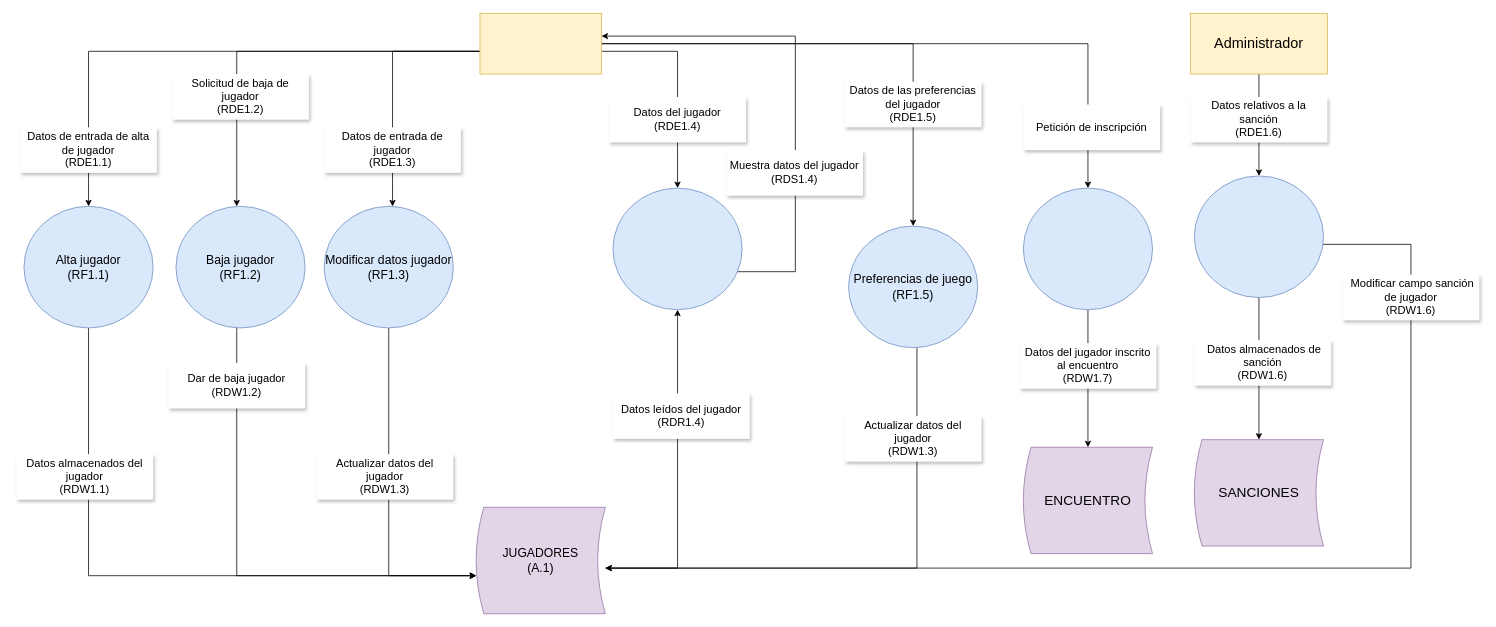
This 1496x627 diagram has some shape labels left out. Each missing label, with the centre of its shape:
"Aplicar sanción (RF1.6)" goes at (x=1259, y=236).
"Inscribirse a encuentro (RF1.7)" goes at (x=1088, y=248).
"Mostrar datos (RF1.4)" goes at (x=677, y=248).
"Usuario" goes at (x=540, y=43).
